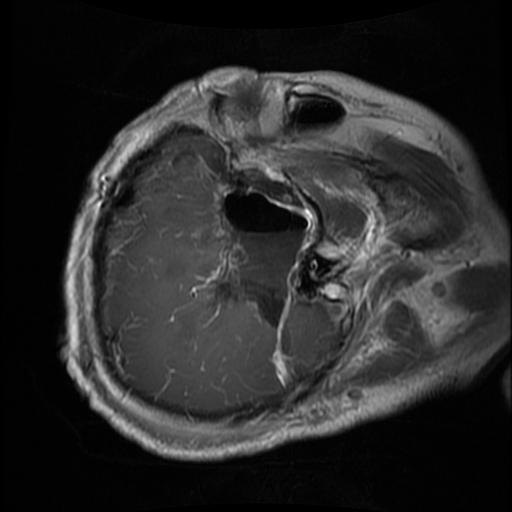glioma: (214, 187, 308, 331)
